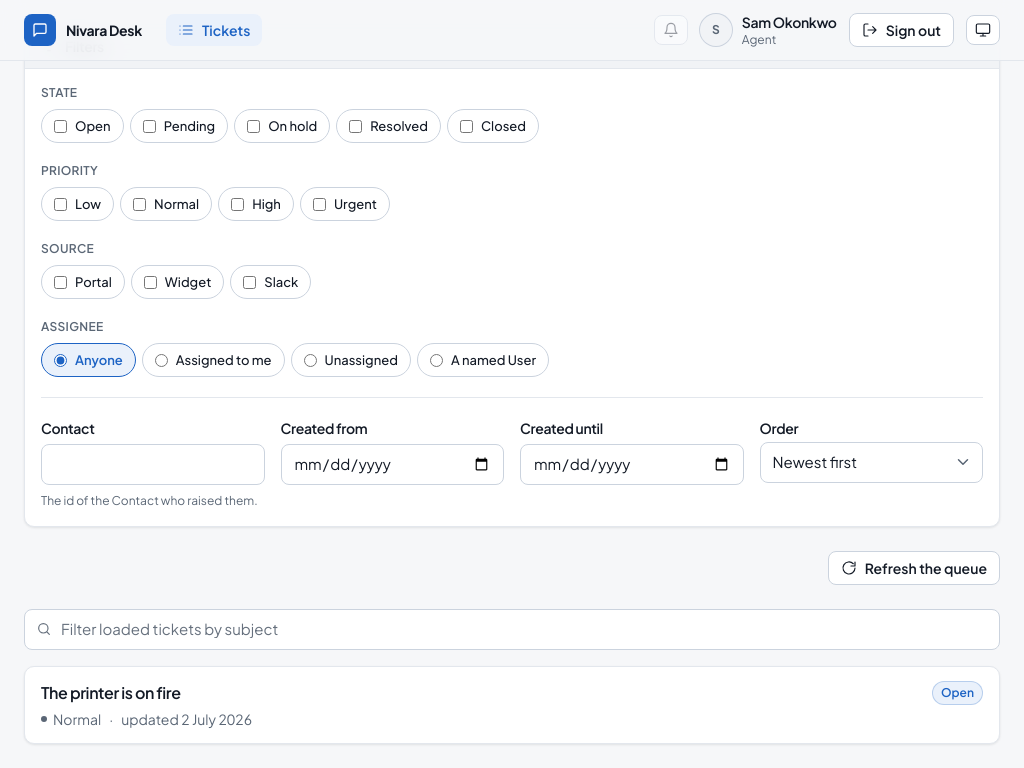
Scenario: who a Ticket belongs to › returns one to the unclaimed pool
(page scrolled)
Click the button "The printer is on fire Normal · updated 2 July 2026 Open": (111, 692) left=25, top=666, right=999, bottom=742
(page scrolled)
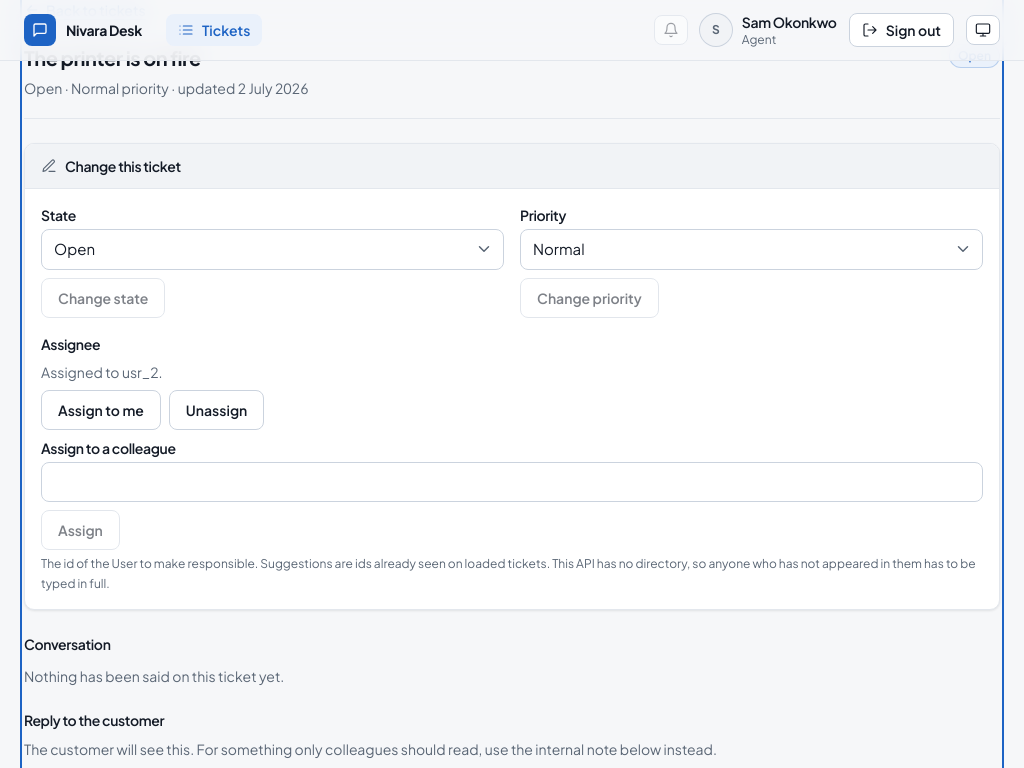
Expected: the heading "The printer is on fire" is shown, left=24, top=44, right=201, bottom=72
Click the button "Unassign": (217, 410) left=169, top=390, right=264, bottom=430
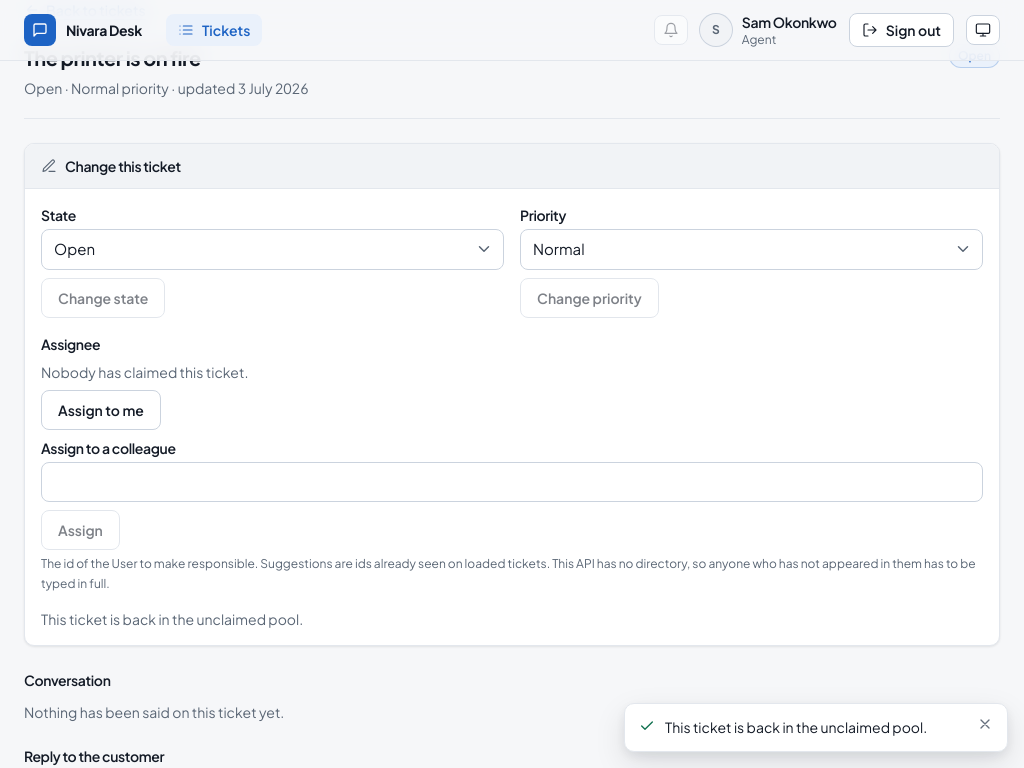
Expected: the text "Nobody has claimed this ticket." is shown, left=41, top=362, right=248, bottom=380
